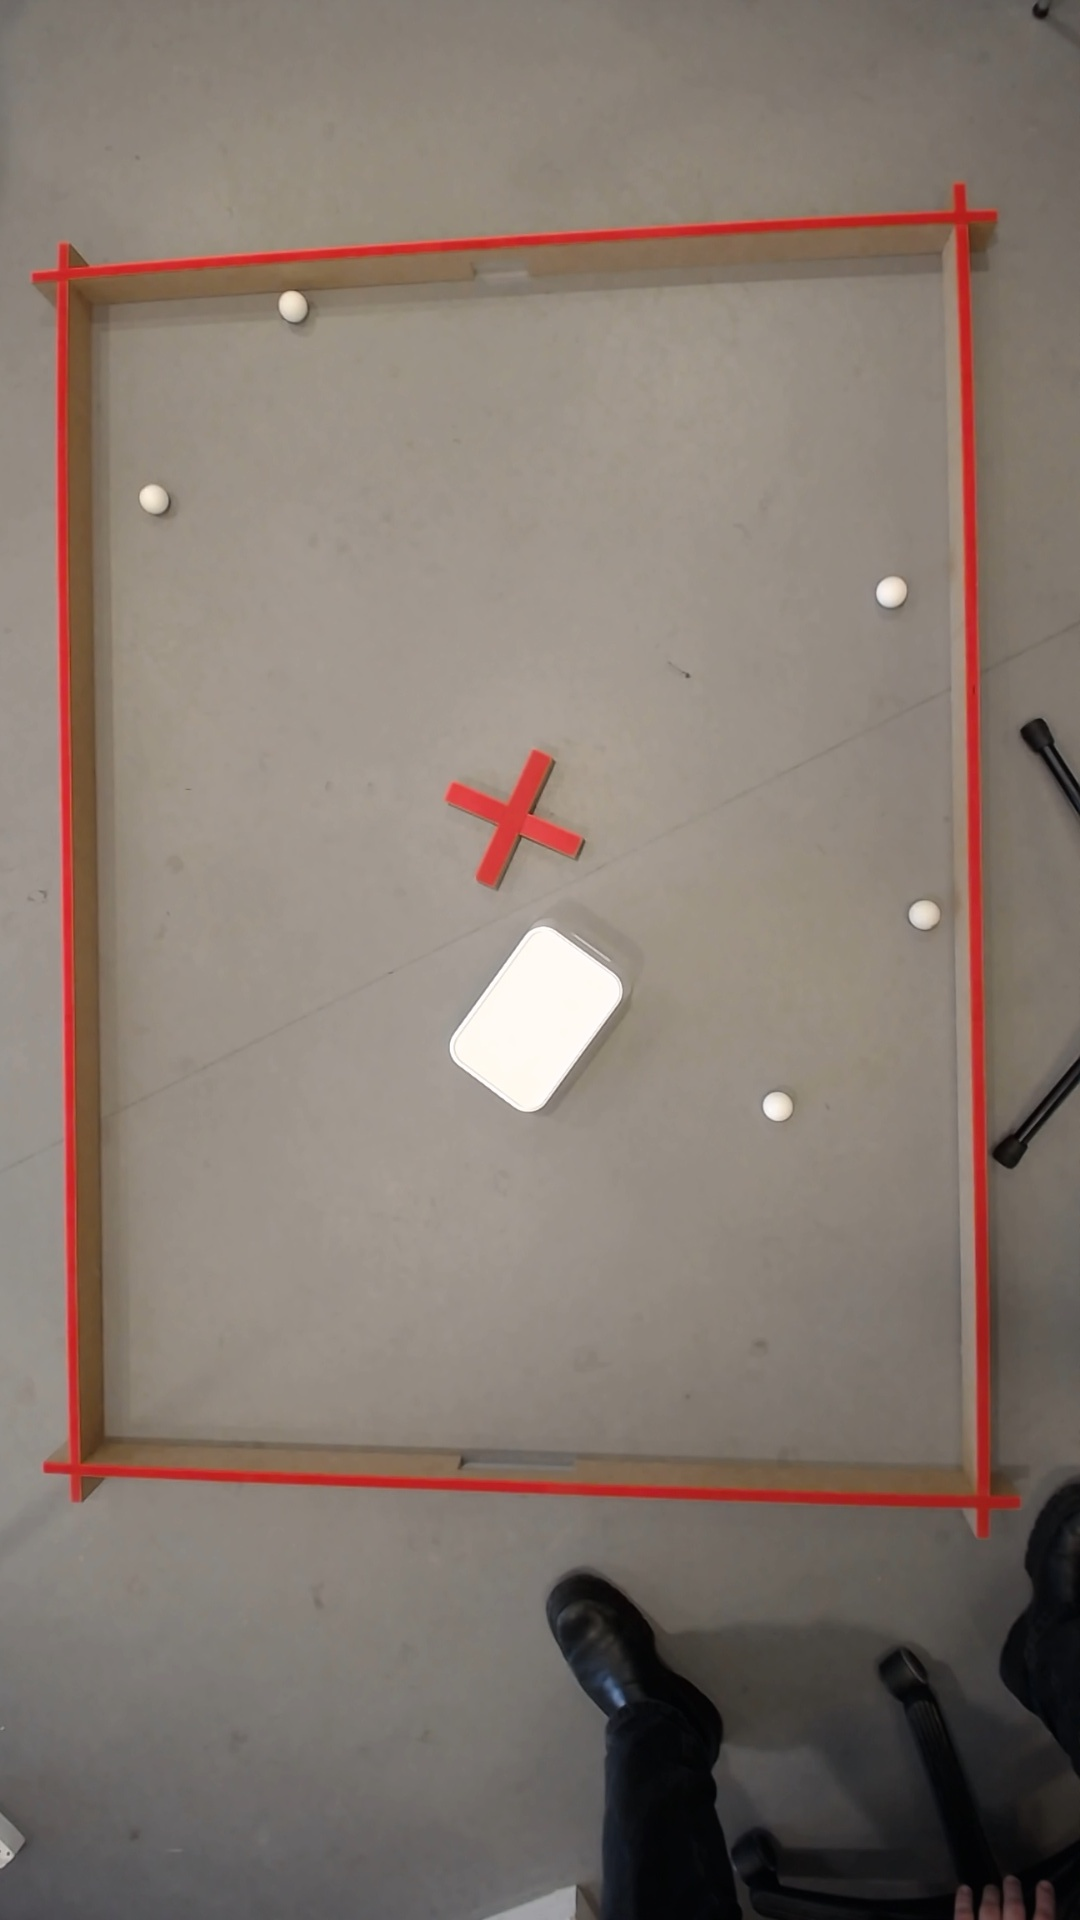balls: (436, 915, 632, 1121), (870, 571, 906, 609), (757, 1088, 793, 1124), (903, 897, 938, 930), (135, 480, 167, 513)
car: (278, 291, 301, 318)
